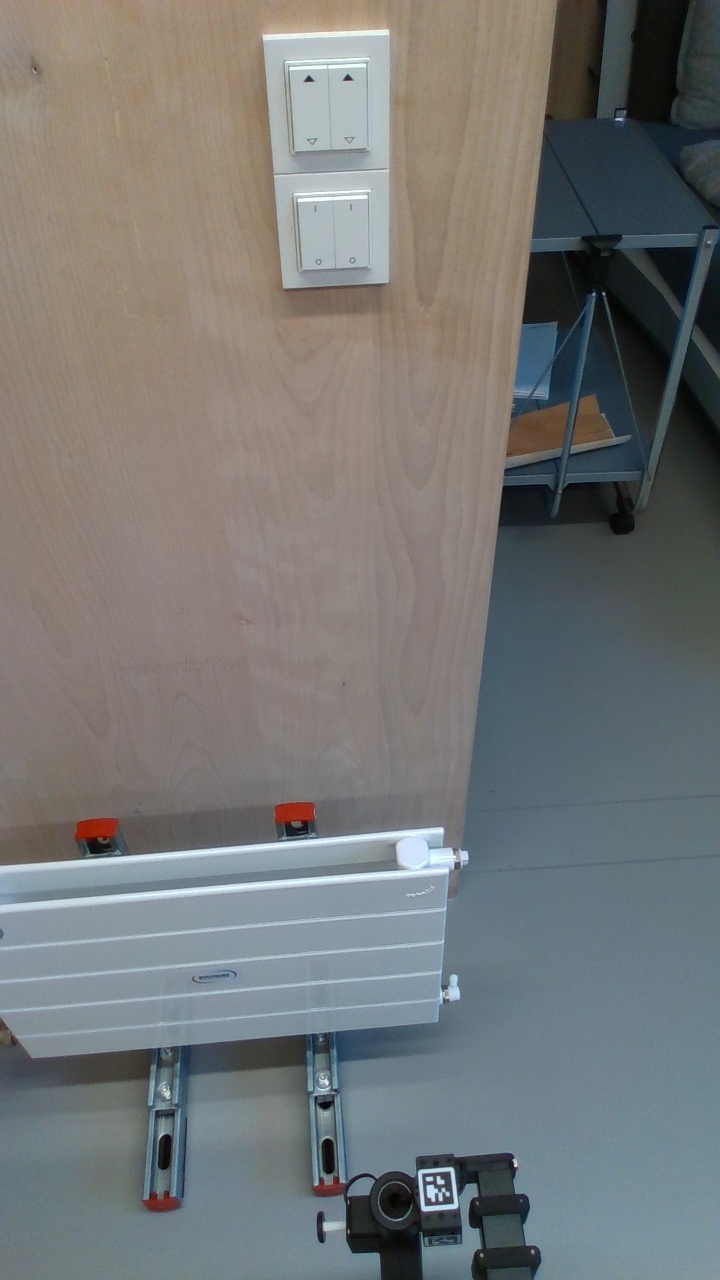Light_Switch: (267, 38, 386, 166), (281, 172, 386, 286)
Radiator: (1, 814, 467, 1072)
